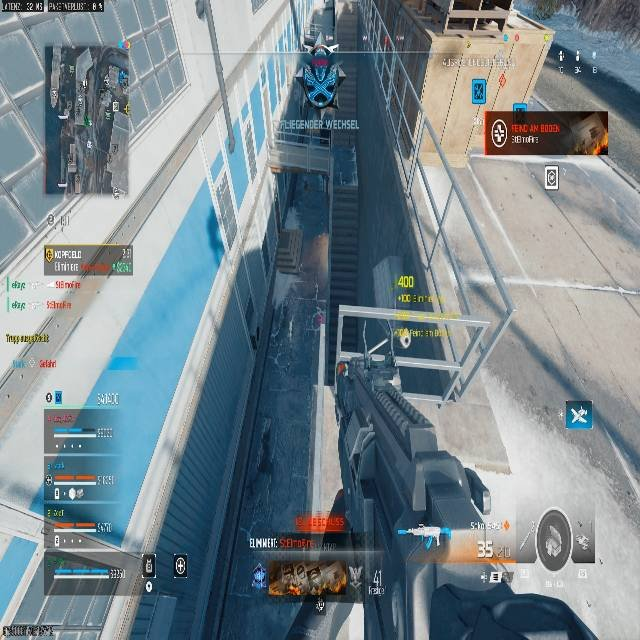player: (293, 43, 344, 117)
